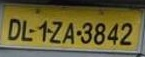character: (119, 21, 133, 45), (49, 20, 62, 43), (7, 18, 21, 39), (19, 20, 33, 41), (61, 22, 74, 44), (93, 22, 105, 45), (80, 21, 92, 43), (106, 23, 118, 45), (38, 20, 47, 42)
